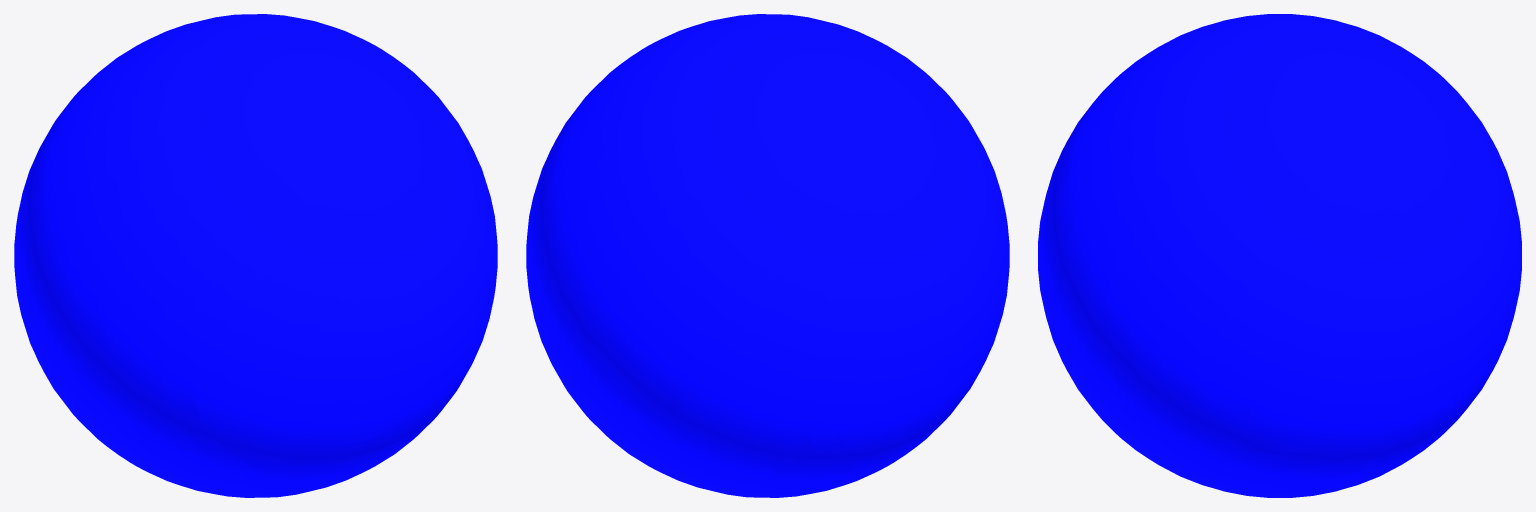
The model's file is orbital_n2_l0_m0_real_signed.fbx.
3 renders of one model, left to right at view 1: azimuth 30°, elevation 25°; view 2: azimuth 150°, elevation 25°; view 3: azimuth 270°, elevation 25°, orthographic.
Visible parts, largest first — view 1: orbital_n2_l0_m0_real_signed; view 2: orbital_n2_l0_m0_real_signed; view 3: orbital_n2_l0_m0_real_signed.
Boxes of the visible parts, x1,y1,x2,y2 form: orbital_n2_l0_m0_real_signed: [14, 14, 497, 497]; orbital_n2_l0_m0_real_signed: [526, 14, 1009, 497]; orbital_n2_l0_m0_real_signed: [1038, 14, 1521, 497].
Size of the model in its own units: 1683 by 1683 by 1683.
